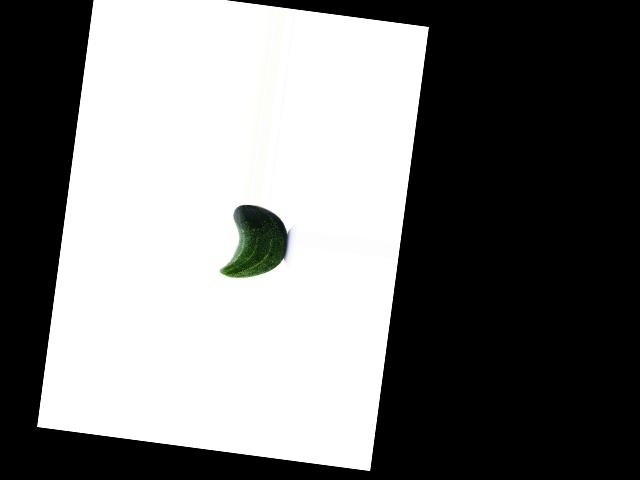cucumber: (219, 202, 291, 284)
